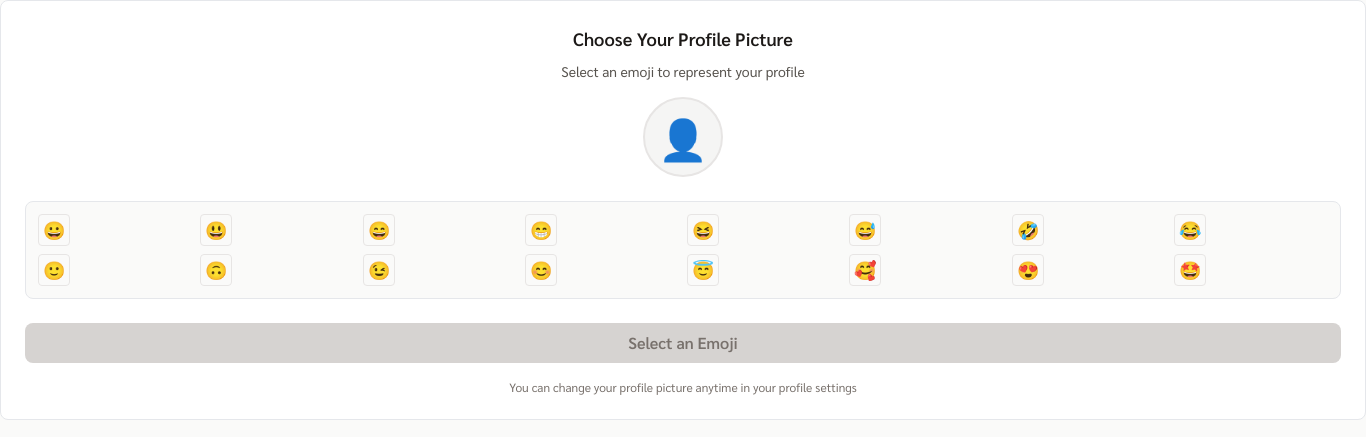
Test case: EmojiSelector › Emoji Selection › should update internal state when emoji is clicked
Click the button "😀" at x=54, y=230, box [38,214,70,246]
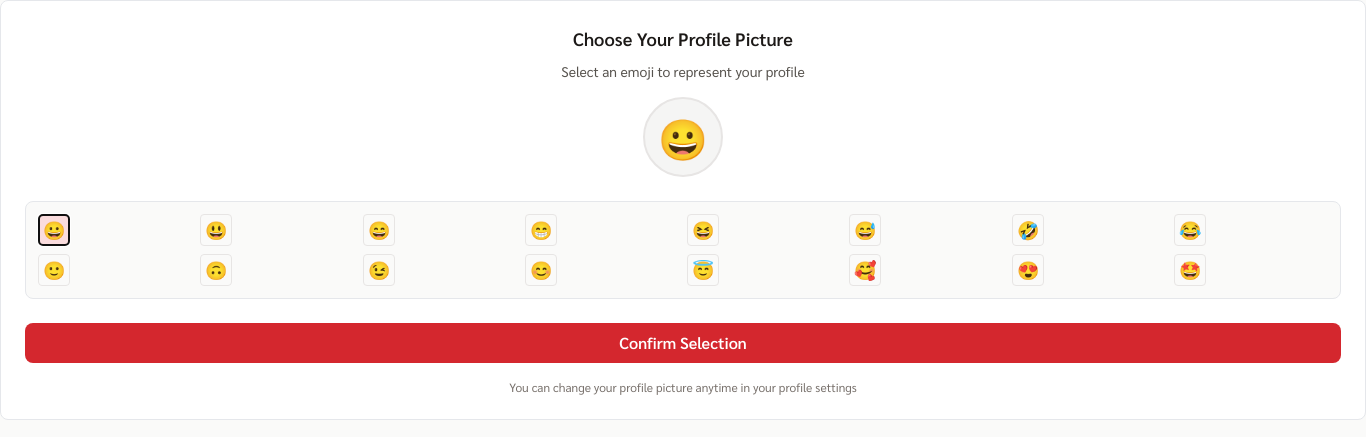
Check: the button "Confirm Selection" is shown, box [25,323,1341,363]
